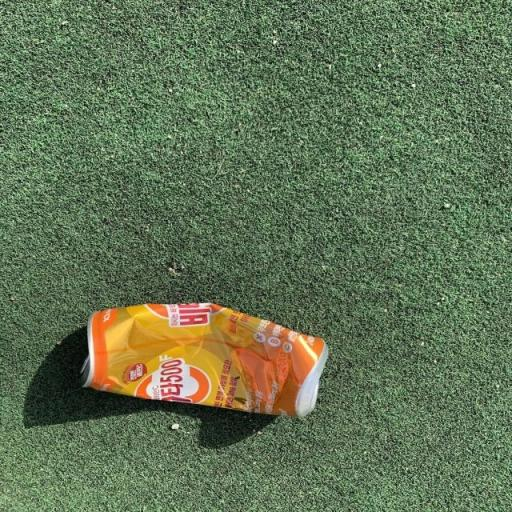metal: (52, 270, 346, 448)
